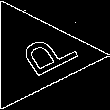P_SW: (1, 26, 72, 84)
